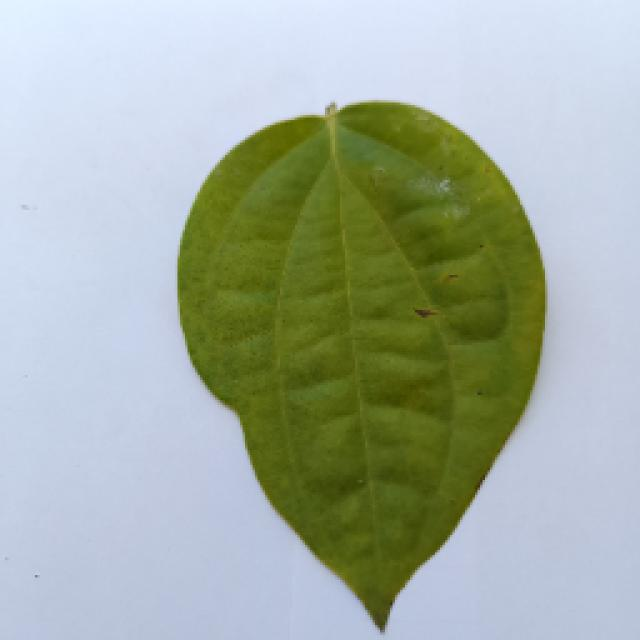slow-decline: (175, 95, 547, 630)
